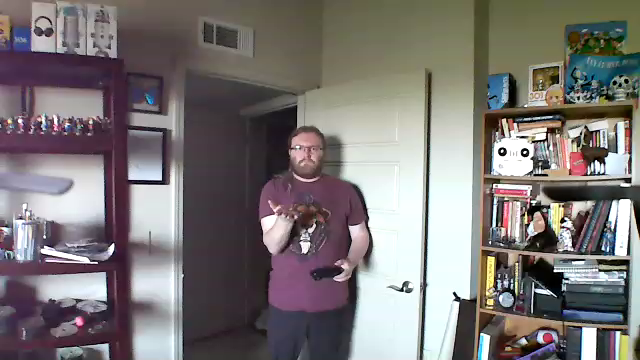land: (265, 196, 300, 224)
